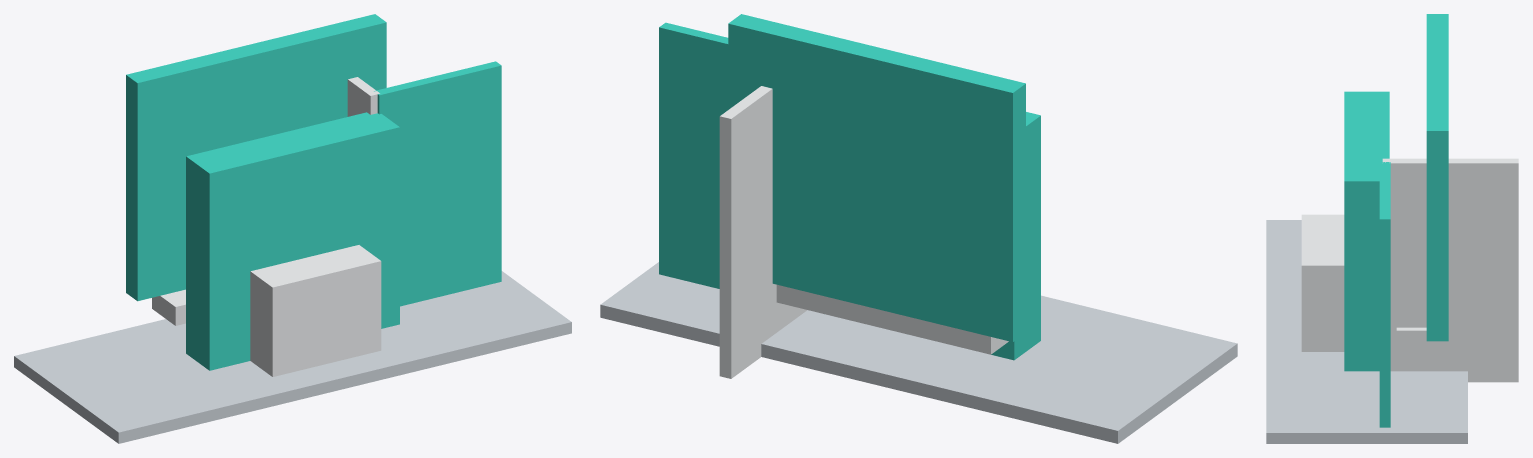
3 views of the same model, side by side, from view 1: azimuth 30°, elevation 25°; view 2: azimuth 150°, elevation 25°; view 3: azimuth 270°, elevation 25° (orthographic). The views are drawn at different scales.
Parts seen in each view (by area): view 1: Exhibition Booth Concept; view 2: Exhibition Booth Concept; view 3: Exhibition Booth Concept.
Part boxes in pixels (x1,y1,x2,y2): Exhibition Booth Concept: (14,14,571,443); Exhibition Booth Concept: (600,14,1237,443); Exhibition Booth Concept: (1266,14,1518,443).
Size of the model in its own units: 5 by 2.9 by 2.5.
